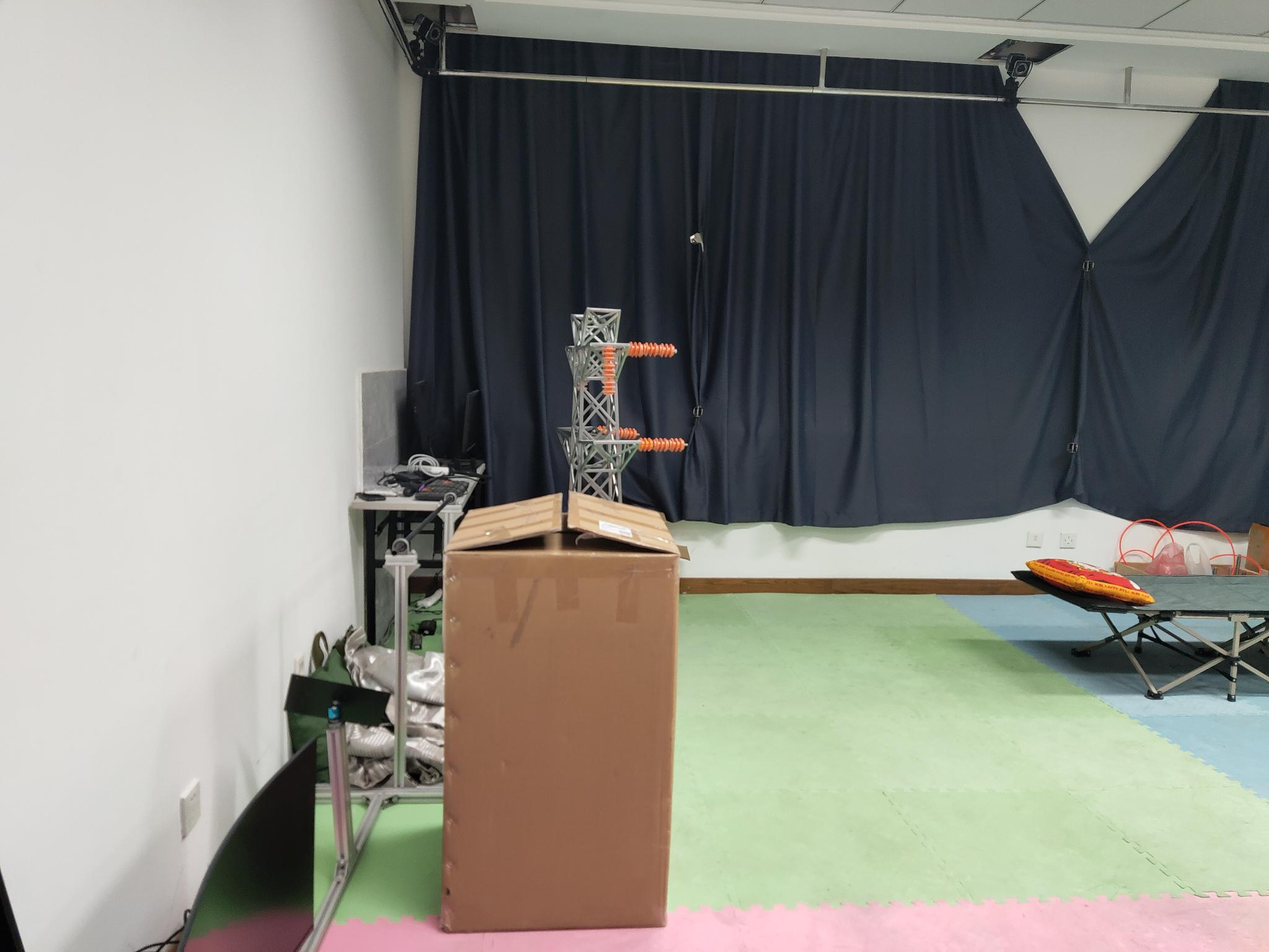tower: (554, 305, 641, 501)
